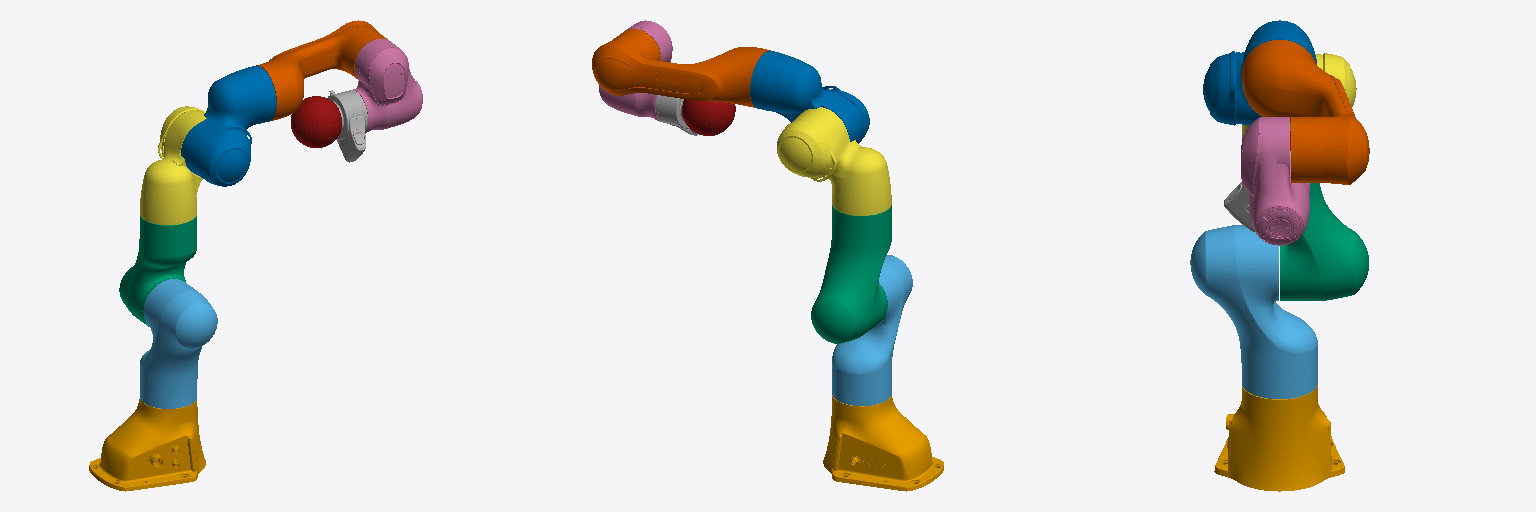
URDF robot description (panda):
<?xml version='1.0' encoding='utf-8'?>
<robot name="panda">

	<link name="link0">
		<inertial>
			<origin xyz="0 0 0.05" rpy="0 0 0" />
			<mass value="4" />
			<inertia ixx="0.4" iyy="0.4" izz="0.4" ixy="0" ixz="0" iyz="0" />
		</inertial>
		<visual>
			<geometry>
				<mesh filename="meshes/visual/link0.obj"/>
			</geometry>
		</visual>
		<!-- <collision>
			<geometry>
				<mesh filename="meshes/collision/link0.obj"/>
			</geometry>
		</collision> -->
	</link>
	<link name="link1">
		<inertial>
			<origin xyz="0 0 -0.07" rpy="0 -0 0" />
			<mass value="3" />
			<inertia ixx="0.3" iyy="0.3" izz="0.3" ixy="0" ixz="0" iyz="0" />
		</inertial>
		<visual>
			<geometry>
				<mesh filename="meshes/visual/link1.obj"/>
			</geometry>
		</visual>
		<!-- <collision>
			<geometry>
				<mesh filename="meshes/collision/link1.obj"/>
			</geometry>
		</collision> -->
	</link>
	<link name="link2">
		<inertial>
			<origin xyz="0 -0.1 0" rpy="0 -0 0" />
			<mass value="3" />
			<inertia ixx="0.3" iyy="0.3" izz="0.3" ixy="0" ixz="0" iyz="0" />
		</inertial>
		<visual>
			<geometry>
				<mesh filename="meshes/visual/link2.obj"/>
			</geometry>
		</visual>
		<!-- <collision>
			<geometry>
				<mesh filename="meshes/collision/link2.obj"/>
			</geometry>
		</collision> -->
	</link>
	<link name="link3">
		<inertial>
			<origin xyz="0.04 0 -0.05" rpy="0 -0 0" />
			<mass value="2" />
			<inertia ixx="0.2" iyy="0.2" izz="0.2" ixy="0" ixz="0" iyz="0" />
		</inertial>
		<visual>
			<geometry>
				<mesh filename="meshes/visual/link3.obj"/>
			</geometry>
		</visual>
		<!-- <collision>
			<geometry>
				<mesh filename="meshes/collision/link3.obj"/>
			</geometry>
		</collision> -->
	</link>
	<link name="link4">
		<inertial>
			<origin xyz="-0.04 0.05 0" rpy="0 -0 0" />
			<mass value="2" />
			<inertia ixx="0.2" iyy="0.2" izz="0.2" ixy="0" ixz="0" iyz="0" />
		</inertial>
		<visual>
			<geometry>
				<mesh filename="meshes/visual/link4.obj"/>
			</geometry>
		</visual>
		<!-- <collision>
			<geometry>
				<mesh filename="meshes/collision/link4.obj"/>
			</geometry>
		</collision> -->
	</link>
	<link name="link5">
		<inertial>
			<origin xyz="0 0 -0.15" rpy="0 -0 0" />
			<mass value="2" />
			<inertia ixx="0.2" iyy="0.2" izz="0.2" ixy="0" ixz="0" iyz="0" />
		</inertial>
		<visual>
			<geometry>
				<mesh filename="meshes/visual/link5.obj"/>
			</geometry>
		</visual>
		<!-- <collision>
			<geometry>
				<mesh filename="meshes/collision/link5.obj"/>
			</geometry>
		</collision> -->
	</link>
	<link name="link6">
		<inertial>
			<origin xyz="0.06 0 0" rpy="0 -0 0" />
			<mass value="1.5" />
			<inertia ixx="0.1" iyy="0.1" izz="0.1" ixy="0" ixz="0" iyz="0" />
		</inertial>
		<visual>
			<geometry>
				<mesh filename="meshes/visual/link6.obj"/>
			</geometry>
		</visual>
		<!-- <collision>
			<geometry>
				<mesh filename="meshes/collision/link6.obj"/>
			</geometry>
		</collision> -->
	</link>
	<link name="link7">
		<inertial>
			<origin xyz="0 0 0.17" rpy="0 -0 0" />
			<mass value="1.8" />
			<inertia ixx="0.09" iyy="0.05" izz="0.07" ixy="0" ixz="0" iyz="0" />
		</inertial>
		<visual>
			<geometry>
				<mesh filename="meshes/visual/link7.obj"/>
			</geometry>
		</visual>
		<!-- <collision>
			<geometry>
				<mesh filename="meshes/collision/link7.obj"/>
			</geometry>
		</collision> -->
	</link>
	<link name="end-effector">
		<inertial>
			<origin xyz="0 0 0" rpy="0 -0 0" />
			<mass value="0.2" />
			<inertia ixx="0.01" iyy="0.01" izz="0.01" ixy="0" ixz="0" iyz="0" />
		</inertial>
		<visual>
			<geometry>
				<sphere radius="0.05"/>
			</geometry>
			<material name="material_red">
				<color rgba="0.6 0.1 0.1 1.0" />
			</material>
		</visual>
		<collision>
			<geometry>
				<sphere radius="0.05"/>
			</geometry>
		</collision>
	</link>

	<joint name="joint1" type="revolute">
		<safety_controller k_position="100.0" k_velocity="40.0" soft_lower_limit="-2.8973" soft_upper_limit="2.8973"/>
		<origin rpy="0 0 0" xyz="0 0 0.333"/>
		<parent link="link0"/>
		<child link="link1"/>
		<axis xyz="0 0 1"/>
		<calibration falling="0.0" />
		<limit effort="87" lower="-2.8973" upper="2.8973" velocity="2.1750"/>
	</joint>
	<joint name="joint2" type="revolute">
		<safety_controller k_position="100.0" k_velocity="40.0" soft_lower_limit="-1.7628" soft_upper_limit="1.7628"/>
		<origin rpy="-1.57079632679 0 0" xyz="0 0 0"/>
		<parent link="link1"/>
		<child link="link2"/>
		<axis xyz="0 0 1"/>
		<calibration falling="-25.0" />
		<limit effort="87" lower="-1.7628" upper="1.7628" velocity="2.1750"/>
	</joint>
	<joint name="joint3" type="revolute">
		<safety_controller k_position="100.0" k_velocity="40.0" soft_lower_limit="-2.8973" soft_upper_limit="2.8973"/>
		<origin rpy="1.57079632679 0 0" xyz="0 -0.316 0"/>
		<parent link="link2"/>
		<child link="link3"/>
		<axis xyz="0 0 1"/>
		<limit effort="87" lower="-2.8973" upper="2.8973" velocity="2.1750"/>
	</joint>
	<joint name="joint4" type="revolute">
		<safety_controller k_position="100.0" k_velocity="40.0" soft_lower_limit="-3.0718" soft_upper_limit="-0.0698"/>
		<origin rpy="1.57079632679 0 0" xyz="0.0825 0 0"/>
		<parent link="link3"/>
		<child link="link4"/>
		<axis xyz="0 0 1"/>
		<calibration falling="-135.0" />
		<limit effort="87" lower="-3.0718" upper="-0.0698" velocity="2.1750"/>
	</joint>
	<joint name="joint5" type="revolute">
		<safety_controller k_position="100.0" k_velocity="40.0" soft_lower_limit="-2.8973" soft_upper_limit="2.8973"/>
		<origin rpy="-1.57079632679 0 0" xyz="-0.0825 0.384 0"/>
		<parent link="link4"/>
		<child link="link5"/>
		<axis xyz="0 0 1"/>
		<calibration falling="0.0" />
		<limit effort="12" lower="-2.8973" upper="2.8973" velocity="2.6100"/>
	</joint>
	<joint name="joint6" type="revolute">
		<safety_controller k_position="100.0" k_velocity="40.0" soft_lower_limit="-0.0175" soft_upper_limit="3.7525"/>
		<origin rpy="1.57079632679 0 0" xyz="0 0 0"/>
		<parent link="link5"/>
		<child link="link6"/>
		<axis xyz="0 0 1"/>
		<calibration falling="105.0" />
		<limit effort="12" lower="-0.0175" upper="3.7525" velocity="2.6100"/>
	</joint>
	<joint name="joint7" type="revolute">
		<safety_controller k_position="100.0" k_velocity="40.0" soft_lower_limit="-2.8973" soft_upper_limit="2.8973"/>
		<origin rpy="1.57079632679 0 0" xyz="0.088 0 0"/>
		<parent link="link6"/>
		<child link="link7"/>
		<axis xyz="0 0 1"/>
		<limit effort="12" lower="-2.8973" upper="2.8973" velocity="2.6100"/>
	</joint>
	<joint name="joint_ee" type="fixed">
		<origin rpy="0 0 0" xyz="0 0 0.14"/>
		<parent link="link7"/>
		<child link="end-effector"/>
	</joint>
</robot>

--- Facts derived from the render (not from the file) ---
The picture shows the robot from 3 angles, left to right: view 1: azimuth 30°, elevation 25°; view 2: azimuth 150°, elevation 25°; view 3: azimuth 270°, elevation 25°; orthographic projection.
Model panda with 9 links and 8 joints (7 revolute, 1 fixed), rooted at link0, posed joints at zero except 1 at the middle of their limits (joint4 = -1.57).
Visible links, largest first — view 1: link0, link1, link4, link3, link5, link6, link2, end-effector, link7; view 2: link0, link5, link2, link3, link1, link4, link6, end-effector, link7; view 3: link1, link5, link0, link2, link6, link4, link3, link7.
Boxes of the visible links, box(x1,y1,x2,y2) form: link0: box(89, 399, 205, 491); link1: box(140, 279, 217, 408); link4: box(181, 66, 276, 186); link3: box(140, 106, 206, 224); link5: box(256, 20, 387, 121); link6: box(353, 39, 422, 133); link2: box(119, 216, 196, 326); end-effector: box(291, 96, 341, 147); link7: box(328, 90, 367, 162); link0: box(823, 395, 943, 491); link5: box(592, 29, 770, 107); link2: box(811, 205, 891, 343); link3: box(777, 107, 891, 215); link1: box(832, 255, 912, 405); link4: box(750, 51, 869, 143); link6: box(599, 20, 672, 121); end-effector: box(682, 99, 735, 135); link7: box(655, 95, 697, 135); link1: box(1190, 225, 1317, 398); link5: box(1242, 40, 1369, 184); link0: box(1214, 385, 1344, 491); link2: box(1280, 183, 1368, 300); link6: box(1241, 117, 1309, 245); link4: box(1203, 20, 1316, 125); link3: box(1242, 53, 1356, 137); link7: box(1224, 151, 1309, 231).
Bounding box of the posed robot: 0.7022 × 0.2593 × 0.7865 m (x, y, z).
Meshes: 8 distinct files referenced, 8 mesh visuals loaded (8 OBJ).